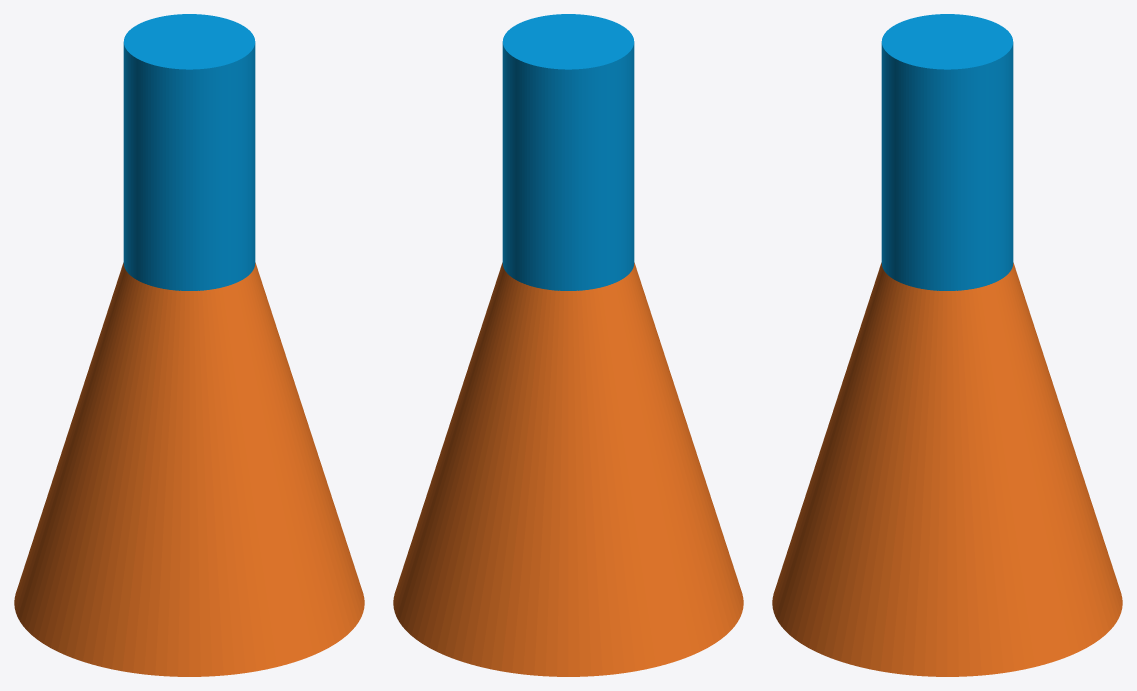
Rendered from flaks_filled_again.glb.
3 renders of one model, left to right at view 1: azimuth 30°, elevation 25°; view 2: azimuth 150°, elevation 25°; view 3: azimuth 270°, elevation 25°, orthographic.
Size of the model in its own units: 0.04 by 0.0707 by 0.04.
